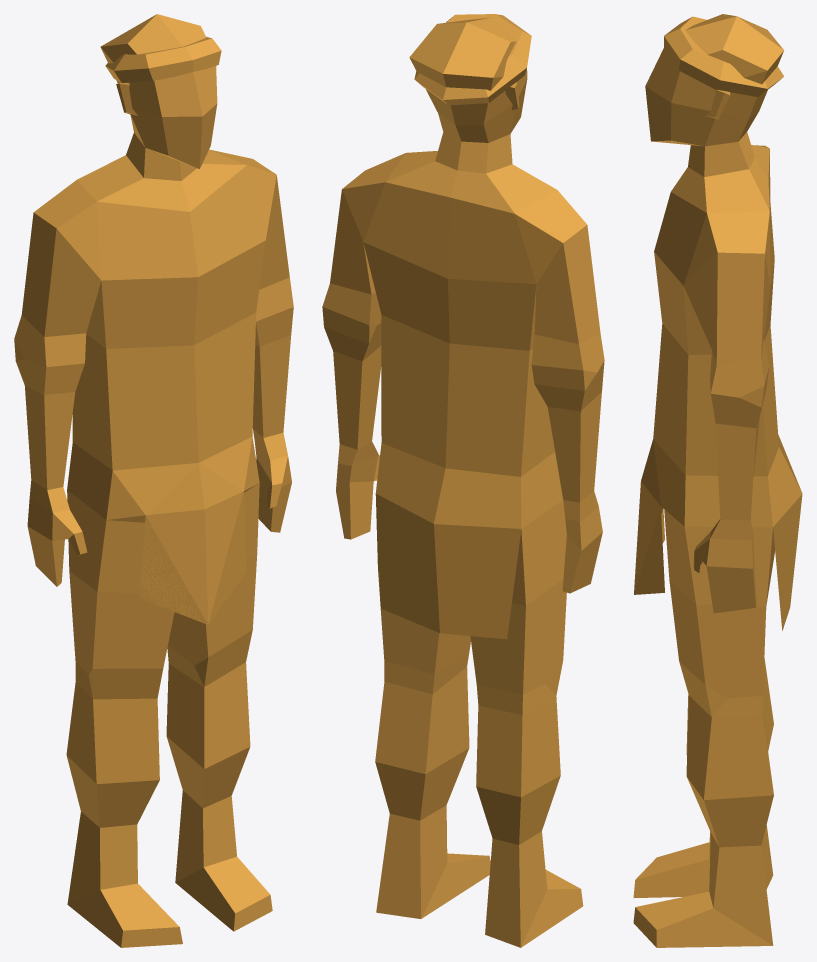
File: man-zulu.fbx
3 views of the same model, side by side, from view 1: azimuth 30°, elevation 25°; view 2: azimuth 150°, elevation 25°; view 3: azimuth 270°, elevation 25° (orthographic).
Visible parts, largest first — view 1: man-zulu; view 2: man-zulu; view 3: man-zulu.
Part boxes in pixels (left/top/right/bottom): man-zulu: left=14, top=14, right=293, bottom=947; man-zulu: left=322, top=14, right=604, bottom=947; man-zulu: left=633, top=14, right=802, bottom=947.
Size of the model in its own units: 0.5574 by 1.81 by 0.3093.
